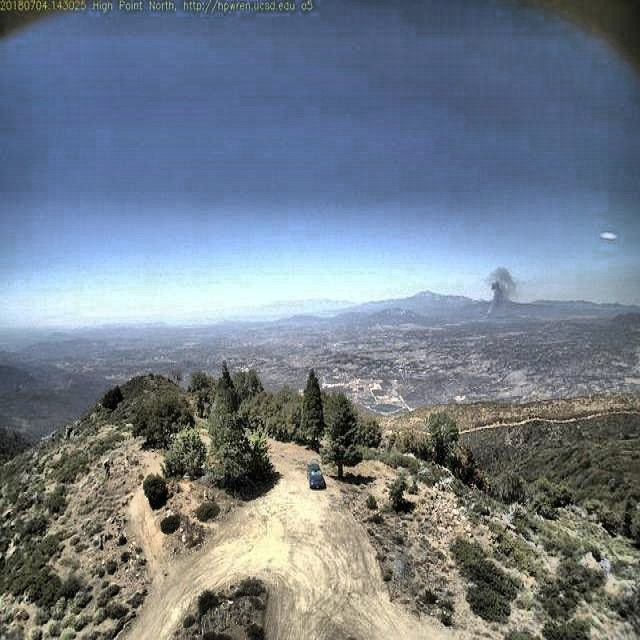smoke: (476, 260, 518, 327)
